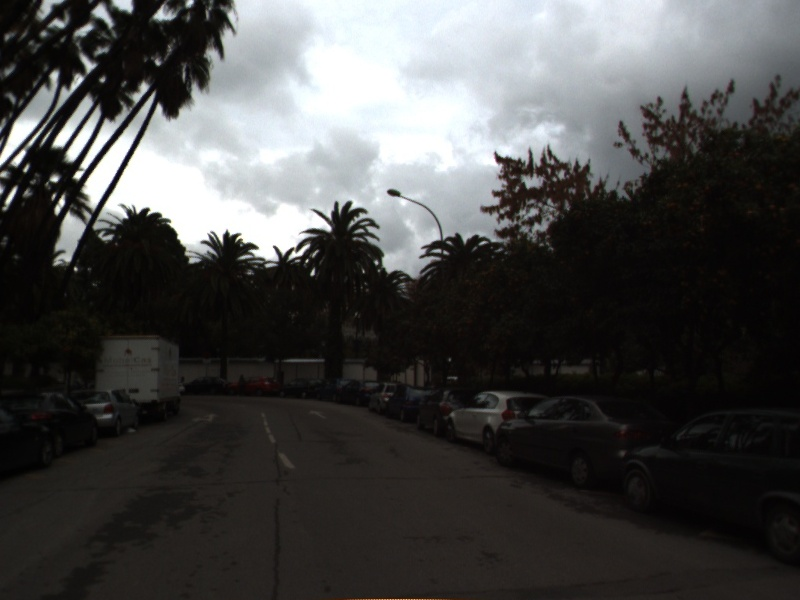STRAIGHT: (307, 408, 328, 421)
STRAIGHT_LEFT: (189, 411, 222, 425)
